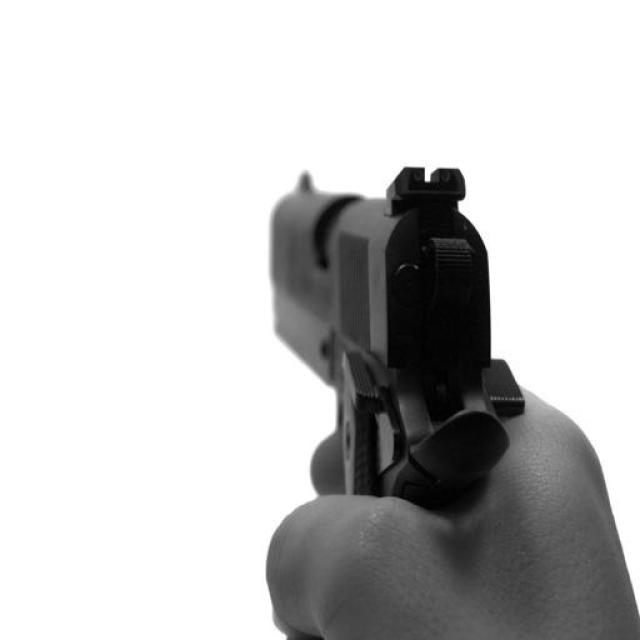pistol: (260, 170, 527, 527)
